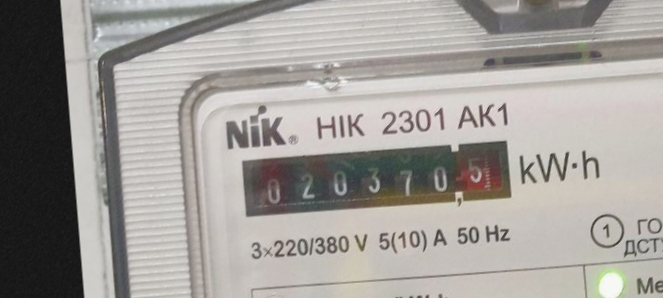0: (429, 163, 449, 194), (262, 175, 282, 205), (330, 167, 347, 196)
2: (296, 170, 317, 202)
3: (363, 164, 381, 195)
5: (464, 153, 485, 186)
7: (396, 167, 414, 198)
screen: (233, 132, 520, 229)
